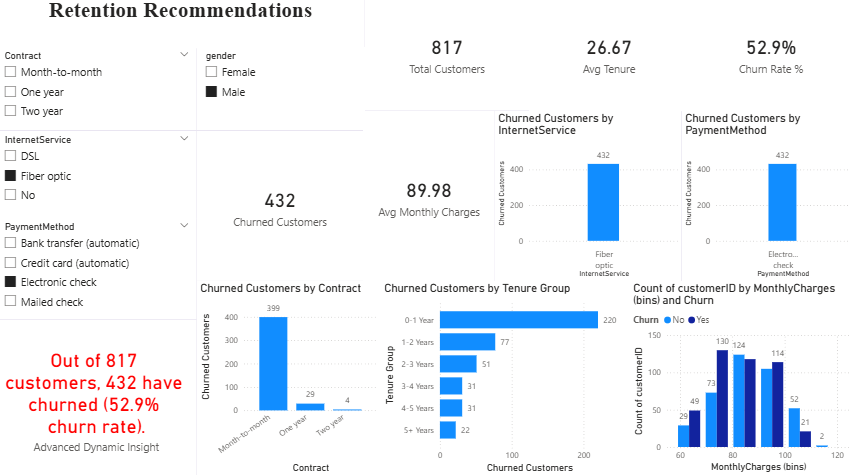

The page's visual inventory and layout, read from the dashboard file:
{"tool":"powerbi","page":{"name":"Page 1","canvas":[1280,720],"ordinal":0},"visuals":[{"type":"card","fields":{"Values":["Telco-Customer-Churn.Total Customers"]},"box":[551.2,1.5,245,173.3],"z":0},{"type":"card","fields":{"Values":["Telco-Customer-Churn.Churned Customers"]},"box":[300.2,204.6,248,224.1],"z":1000},{"type":"card","fields":{"Values":["Telco-Customer-Churn.Churn Rate %"]},"box":[1035.2,0,245,174.8],"z":2000},{"type":"card","fields":{"Values":["Telco-Customer-Churn.Avg Tenure"]},"box":[796.2,0,239,174.8],"z":3000},{"type":"card","fields":{"Values":["Telco-Customer-Churn.Avg Monthly Charges"]},"box":[548.2,174.8,197.2,253.9],"z":4000},{"type":"clusteredColumnChart","fields":{"Category":["Telco-Customer-Churn.Contract"],"Y":["Telco-Customer-Churn.Churned Customers"]},"box":[300.2,428.7,274.9,291.3],"z":5000},{"type":"clusteredBarChart","fields":{"Category":["Telco-Customer-Churn.Tenure Group"],"Y":["Telco-Customer-Churn.Churned Customers"]},"box":[575.1,428.7,372,291.3],"z":6000},{"type":"clusteredColumnChart","fields":{"Category":["Telco-Customer-Churn.PaymentMethod"],"Y":["Telco-Customer-Churn.Churned Customers"]},"box":[1024.7,174.8,255.4,253.9],"z":7000},{"type":"clusteredColumnChart","fields":{"Category":["Telco-Customer-Churn.InternetService"],"Y":["Telco-Customer-Churn.Churned Customers"]},"box":[745.4,174.8,279.3,253.9],"z":8000},{"type":"textbox","box":[0,0,551.2,80.7],"z":9000},{"type":"clusteredColumnChart","fields":{"Category":["Telco-Customer-Churn.MonthlyCharges (bins)"],"Series":["Telco-Customer-Churn.Churn"],"Y":["CountNonNull(Telco-Customer-Churn.customerID)"]},"box":[947.1,428.7,333.1,291.3],"z":10000},{"type":"slicer","fields":{"Values":["Telco-Customer-Churn.gender"]},"box":[300.2,79.2,251,125.5],"z":11000},{"type":"slicer","fields":{"Values":["Telco-Customer-Churn.Contract"]},"box":[0,79.2,300.2,125.5],"z":12000},{"type":"slicer","fields":{"Values":["Telco-Customer-Churn.InternetService"]},"box":[0,204.6,300.2,130],"z":13000},{"type":"slicer","fields":{"Values":["Telco-Customer-Churn.PaymentMethod"]},"box":[0,334.6,300.2,152.4],"z":14000},{"type":"card","fields":{"Values":["Telco-Customer-Churn.Advanced Dynamic Insight"]},"box":[0,487,300,233],"z":14001}]}

Visuals, with their boxes in screenshot pixels (x1, y1, x2, y2), scaled from the page's 1280x720 canvas onto the 850x475 screenshot:
card - Telco-Customer-Churn.Total Customers: l=366, t=1, r=529, b=115
card - Telco-Customer-Churn.Churned Customers: l=199, t=135, r=364, b=283
card - Telco-Customer-Churn.Churn Rate %: l=687, t=0, r=849, b=115
card - Telco-Customer-Churn.Avg Tenure: l=529, t=0, r=687, b=115
card - Telco-Customer-Churn.Avg Monthly Charges: l=364, t=115, r=495, b=283
clusteredColumnChart - Telco-Customer-Churn.Contract x Telco-Customer-Churn.Churned Customers: l=199, t=283, r=382, b=474
clusteredBarChart - Telco-Customer-Churn.Tenure Group x Telco-Customer-Churn.Churned Customers: l=382, t=283, r=629, b=474
clusteredColumnChart - Telco-Customer-Churn.PaymentMethod x Telco-Customer-Churn.Churned Customers: l=680, t=115, r=849, b=283
clusteredColumnChart - Telco-Customer-Churn.InternetService x Telco-Customer-Churn.Churned Customers: l=495, t=115, r=680, b=283
textbox: l=0, t=0, r=366, b=53
clusteredColumnChart - Telco-Customer-Churn.MonthlyCharges (bins) x Telco-Customer-Churn.Churn: l=629, t=283, r=849, b=474
slicer - Telco-Customer-Churn.gender: l=199, t=52, r=366, b=135
slicer - Telco-Customer-Churn.Contract: l=0, t=52, r=199, b=135
slicer - Telco-Customer-Churn.InternetService: l=0, t=135, r=199, b=221
slicer - Telco-Customer-Churn.PaymentMethod: l=0, t=221, r=199, b=321
card - Telco-Customer-Churn.Advanced Dynamic Insight: l=0, t=321, r=199, b=474
